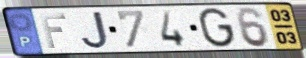4: (158, 9, 189, 48)
6: (235, 5, 271, 49)
7: (115, 9, 147, 50)
F: (38, 13, 69, 50)
G: (197, 6, 237, 49)
J: (80, 10, 112, 50)
